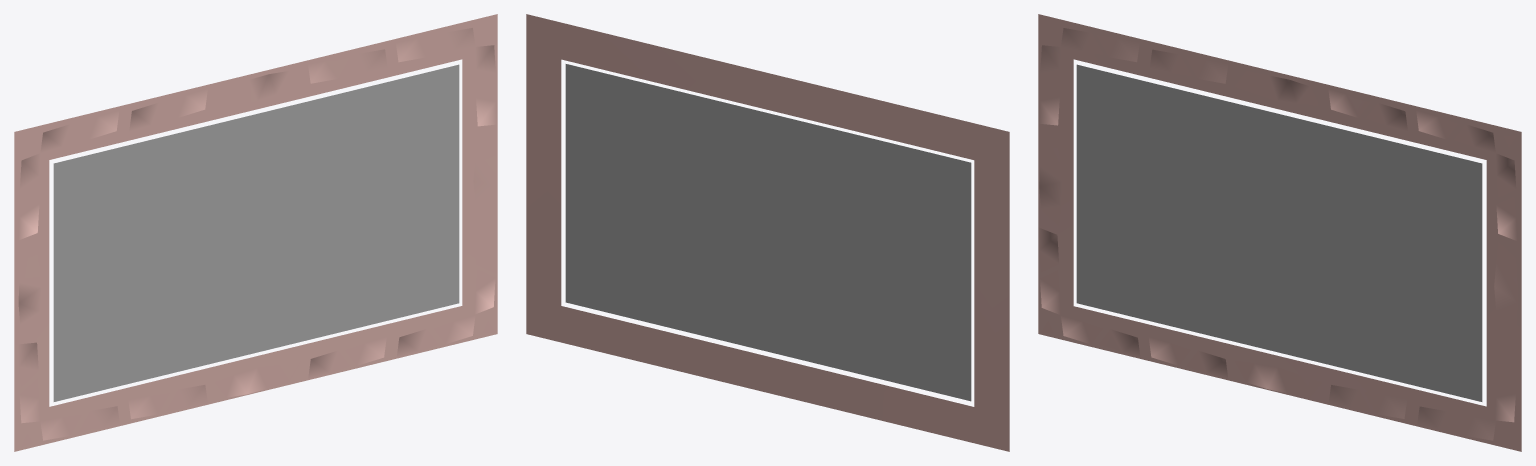
The model's file is Low Poly Portrait.fbx.
3 views of the same model, side by side, from view 1: azimuth 30°, elevation 25°; view 2: azimuth 150°, elevation 25°; view 3: azimuth 330°, elevation 25° (orthographic).
Visible parts, largest first — view 1: Frame; view 2: Frame; view 3: Frame.
Part boxes in pixels (<box>): Frame: <box>14,14,497,451</box>; Frame: <box>526,14,1009,451</box>; Frame: <box>1038,14,1521,451</box>.
Bounding box in the file's own units: 116 × 73.66 × 0.8297.
